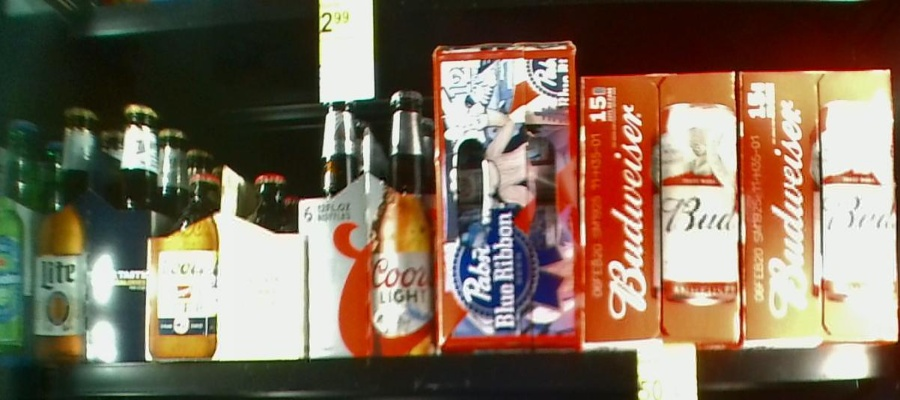bottle: (431, 42, 577, 351), (738, 66, 900, 344), (583, 72, 738, 346), (306, 85, 435, 356), (153, 157, 310, 360), (32, 95, 150, 362)
